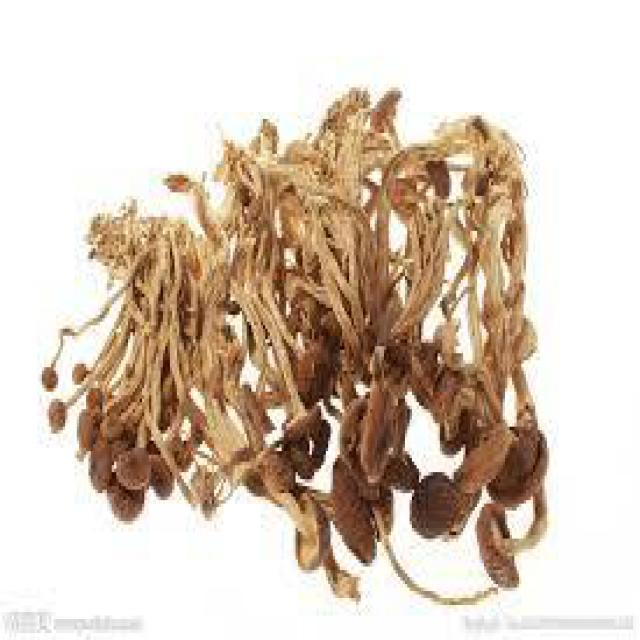Agrocybe aegerita: (36, 94, 549, 601)
